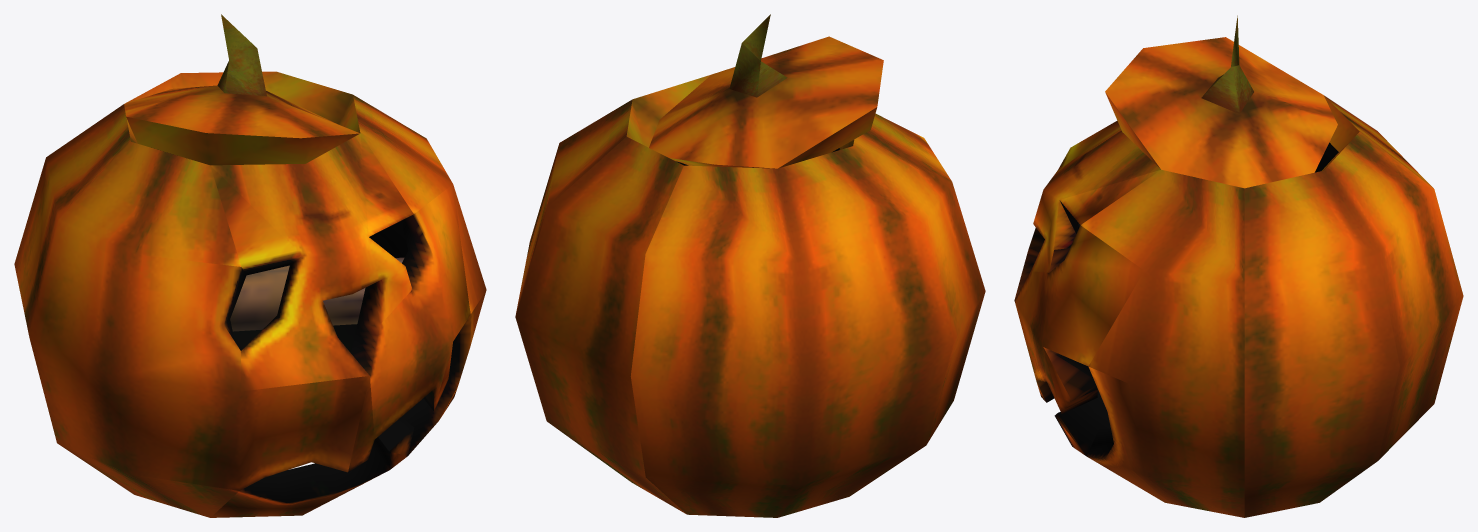
File: pump1.glb
3 views of the same model, side by side, from view 1: azimuth 30°, elevation 25°; view 2: azimuth 150°, elevation 25°; view 3: azimuth 270°, elevation 25° (orthographic). The views are drawn at different scales.
Parts seen in each view (by area): view 1: pump1; view 2: pump1; view 3: pump1.
Boxes of the visible parts, x1,y1,x2,y2 form: pump1: (14,14,486,517); pump1: (515,14,985,517); pump1: (1014,15,1463,517).
Size of the model in its own units: 0.4046 by 0.4216 by 0.3859.
Materials: 2 (2 with a texture image).
